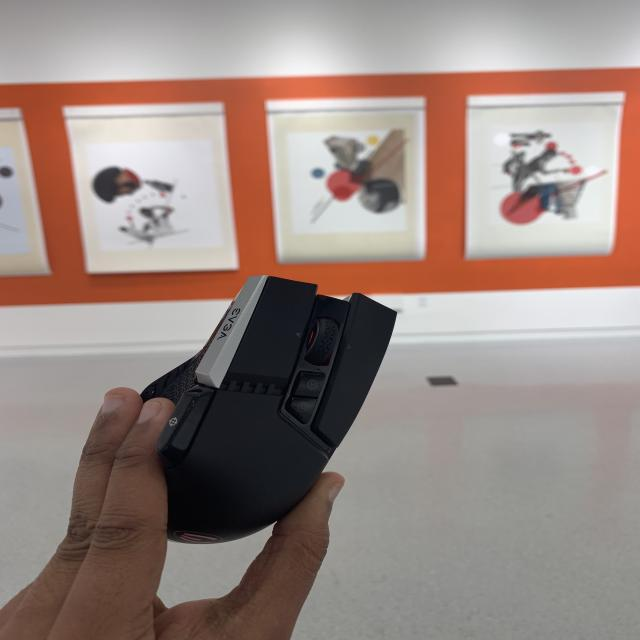Mouse: (102, 265, 400, 545)
